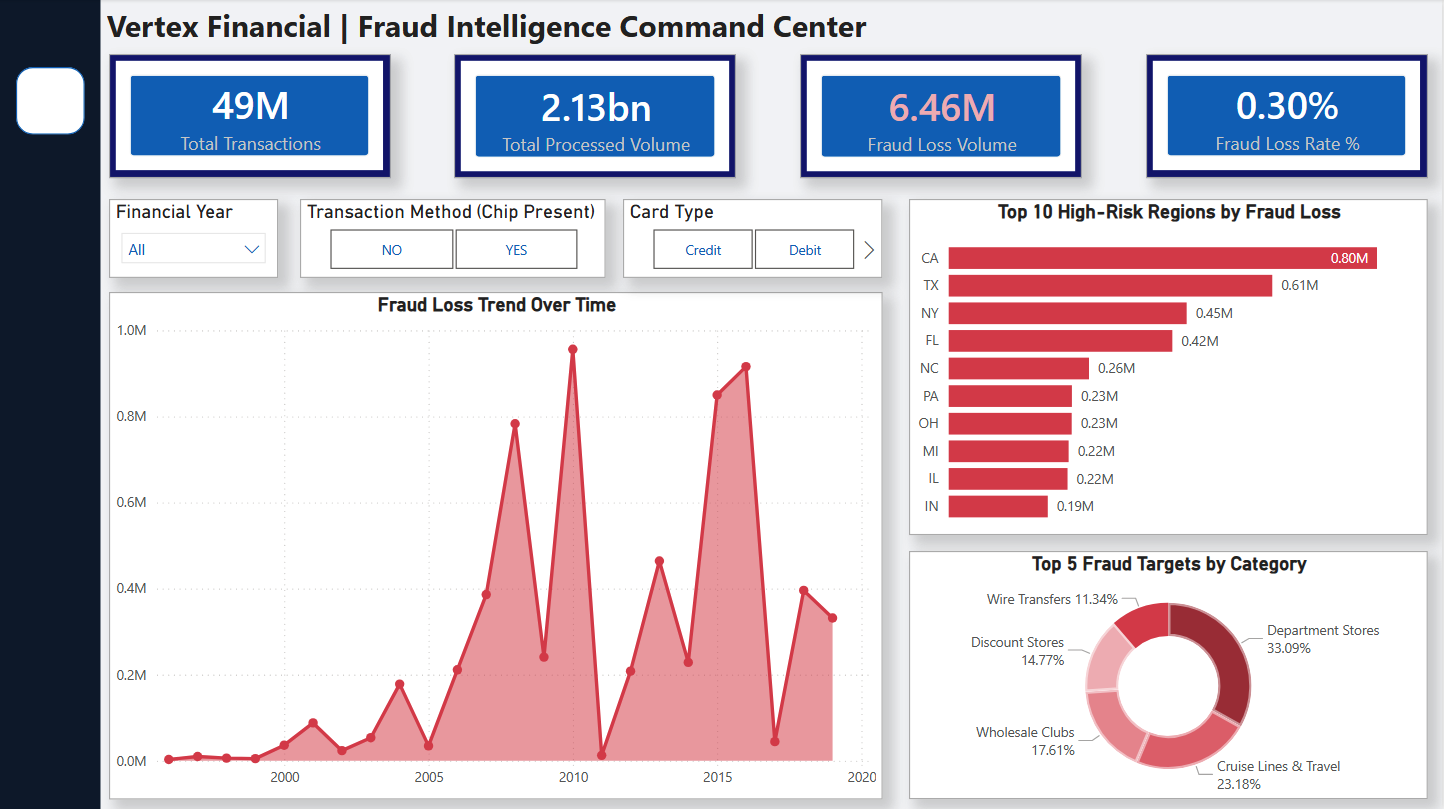

This screenshot's page, from the dashboard's own definition file:
{"tool":"powerbi","page":{"name":"Page 1","canvas":[1280,720],"ordinal":0},"visuals":[{"type":"cardVisual","fields":{"Data":["_Key Measures.Total Transactions"]},"box":[97.4,48.7,249.7,109.6],"z":0},{"type":"slicer","title":"Financial Year","fields":{"Values":["fact_transactions_clean.year"]},"box":[97.4,177.6,150.2,70],"z":1000},{"type":"slicer","title":"Transaction Method (Chip Present)","fields":{"Values":["dim_cards_clean.has_chip"]},"box":[267,177.6,271,70],"z":2000},{"type":"cardVisual","fields":{"Data":["_Key Measures.Total Processed Volume"]},"box":[403.8,48.7,250,110],"z":3000},{"type":"cardVisual","fields":{"Data":["_Key Measures.Fraud Loss Volume"]},"box":[710.4,48.7,250,110],"z":4000},{"type":"cardVisual","fields":{"Data":["_Key Measures.Fraud Loss Rate %"]},"box":[1017.1,48.7,249.7,109.6],"z":5000},{"type":"shape","box":[0,0,90.3,719.7],"z":6000},{"type":"shape","box":[15.2,59.9,60.9,59.9],"z":7000},{"type":"textbox","box":[90.3,0,693.3,59.9],"z":8000},{"type":"clusteredBarChart","title":"Top 10 High-Risk Regions by Fraud Loss","fields":{"Category":["dim_users_clean.state"],"Y":["_Key Measures.Fraud Loss Volume"]},"box":[807,177.6,459.8,298.4],"z":9000},{"type":"lineChart","title":"Fraud Loss Trend Over Time","fields":{"Y":["_Key Measures.Fraud Loss Volume"],"Category":["fact_transactions_clean.year","fact_transactions_clean.month"]},"box":[97.4,259.9,686.2,449.7],"z":10000},{"type":"donutChart","title":"Top 5 Fraud Targets by Category","fields":{"Y":["_Key Measures.Fraud Loss Volume"],"Category":["fact_transactions_clean.Merchant Category"]},"box":[807,489.3,459.8,220.3],"z":11000},{"type":"slicer","title":"Card Type","fields":{"Values":["dim_cards_clean.card_type"]},"box":[553.2,177.6,230.4,70],"z":12000}]}

Visuals, with their boxes in screenshot pixels (x1, y1, x2, y2), scaled from the page's 1280x720 canvas onto the 1444x809 screenshot:
cardVisual - _Key Measures.Total Transactions: <bbox>110, 55, 392, 178</bbox>
"Financial Year" slicer: <bbox>110, 200, 279, 278</bbox>
"Transaction Method (Chip Present)" slicer: <bbox>301, 200, 607, 278</bbox>
cardVisual - _Key Measures.Total Processed Volume: <bbox>456, 55, 738, 178</bbox>
cardVisual - _Key Measures.Fraud Loss Volume: <bbox>801, 55, 1083, 178</bbox>
cardVisual - _Key Measures.Fraud Loss Rate %: <bbox>1147, 55, 1429, 178</bbox>
shape: <bbox>0, 0, 102, 808</bbox>
shape: <bbox>17, 67, 86, 135</bbox>
textbox: <bbox>102, 0, 884, 67</bbox>
"Top 10 High-Risk Regions by Fraud Loss" clusteredBarChart: <bbox>910, 200, 1429, 535</bbox>
"Fraud Loss Trend Over Time" lineChart: <bbox>110, 292, 884, 797</bbox>
"Top 5 Fraud Targets by Category" donutChart: <bbox>910, 550, 1429, 797</bbox>
"Card Type" slicer: <bbox>624, 200, 884, 278</bbox>
